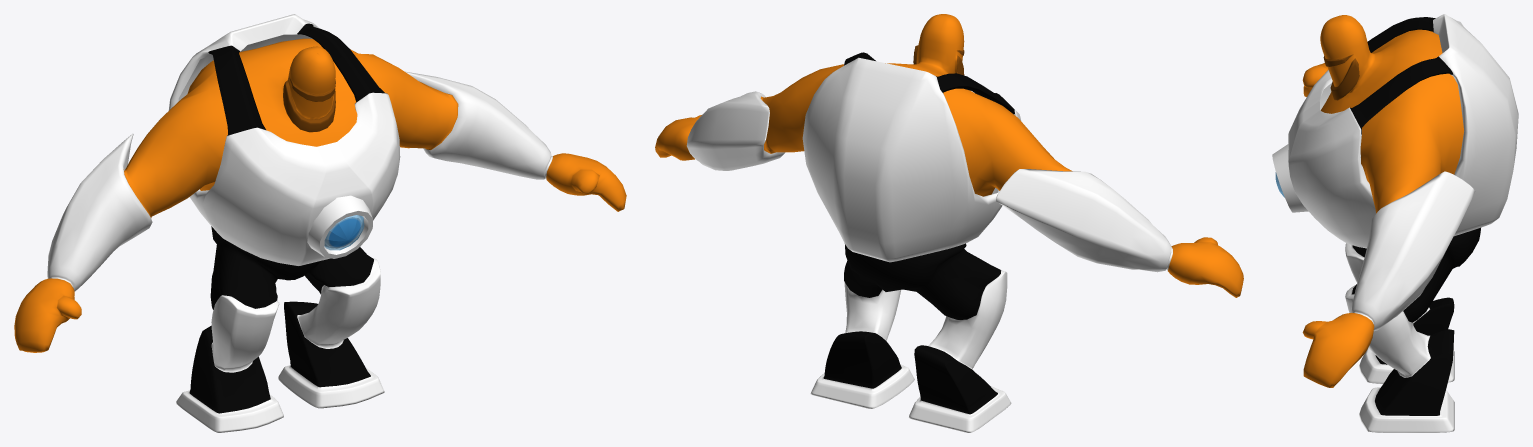
Rendered from Barion_Charcater.fbx.
3 views of the same model, side by side, from view 1: azimuth 30°, elevation 25°; view 2: azimuth 150°, elevation 25°; view 3: azimuth 270°, elevation 25° (orthographic). The views are drawn at different scales.
Visible parts, largest first — view 1: Barion; view 2: Barion; view 3: Barion.
Boxes of the visible parts, x1,y1,x2,y2 form: Barion: (14,14,626,432); Barion: (655,14,1243,432); Barion: (1272,14,1518,432).
Size of what is drawn, in the model's own units: 13.16 by 7.76 by 4.63.
Materials: 2 (1 with a texture image).
